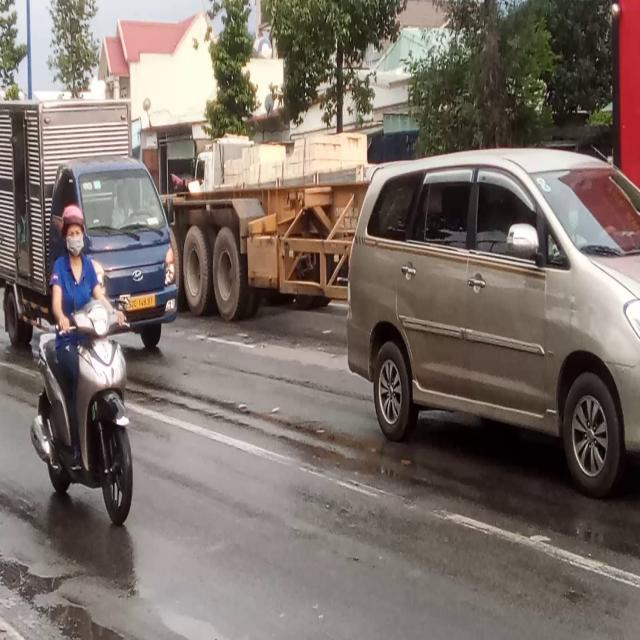bien_vang: (122, 294, 158, 310)
